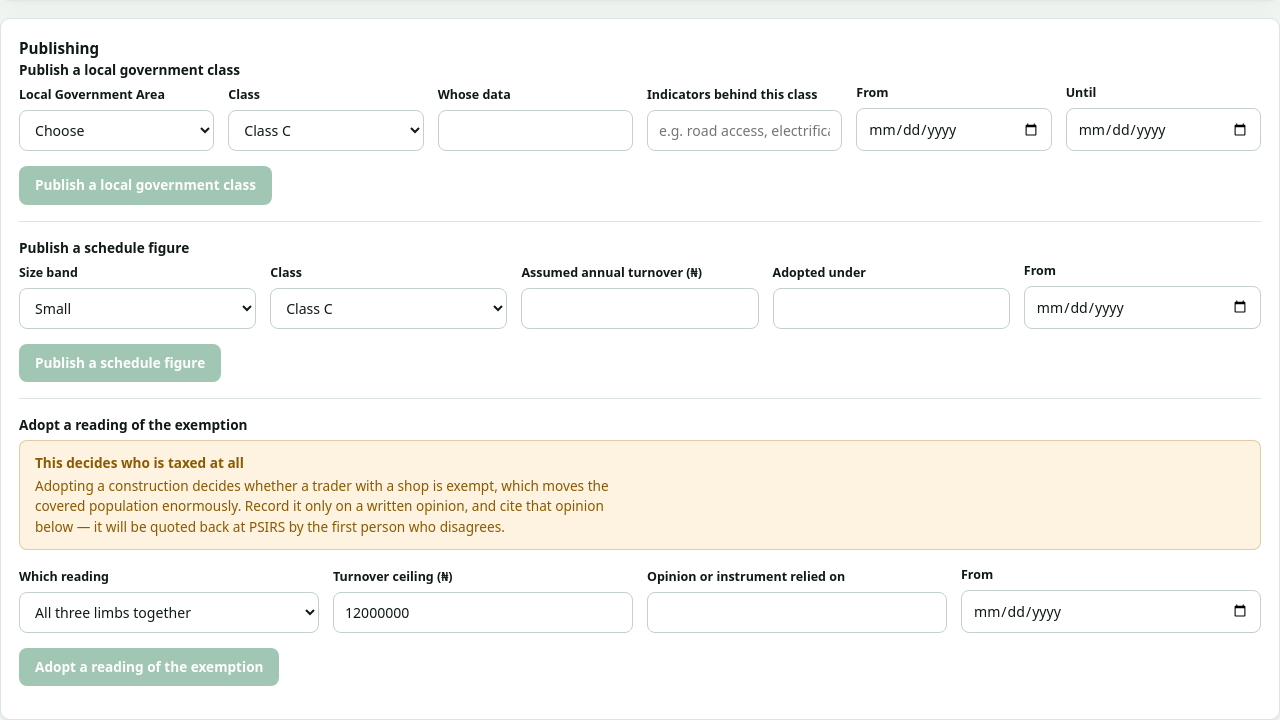
publishing › will not adopt a construction without citing an opinion
(page scrolled)
Expected: the button "Adopt a reading of the exemption" is disabled, [19,648,280,686]
Type "Attorney-General opinion of 12 January 2026" into the field labelled "Opinion or instrument relied on" at [797, 612], box [647,592,947,633]
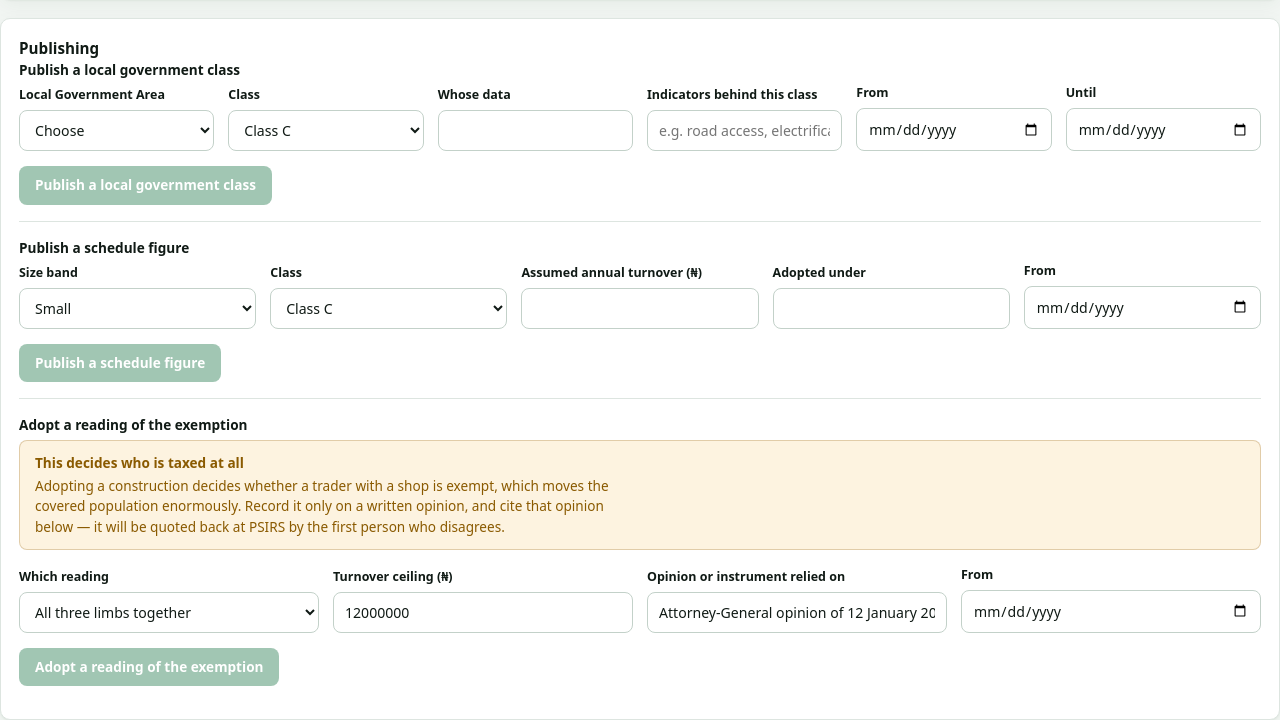
Type "2026-01-01" into the date field labelled "From" below "Opinion or instrument relied on" at [1111, 611], box [961,590,1261,633]
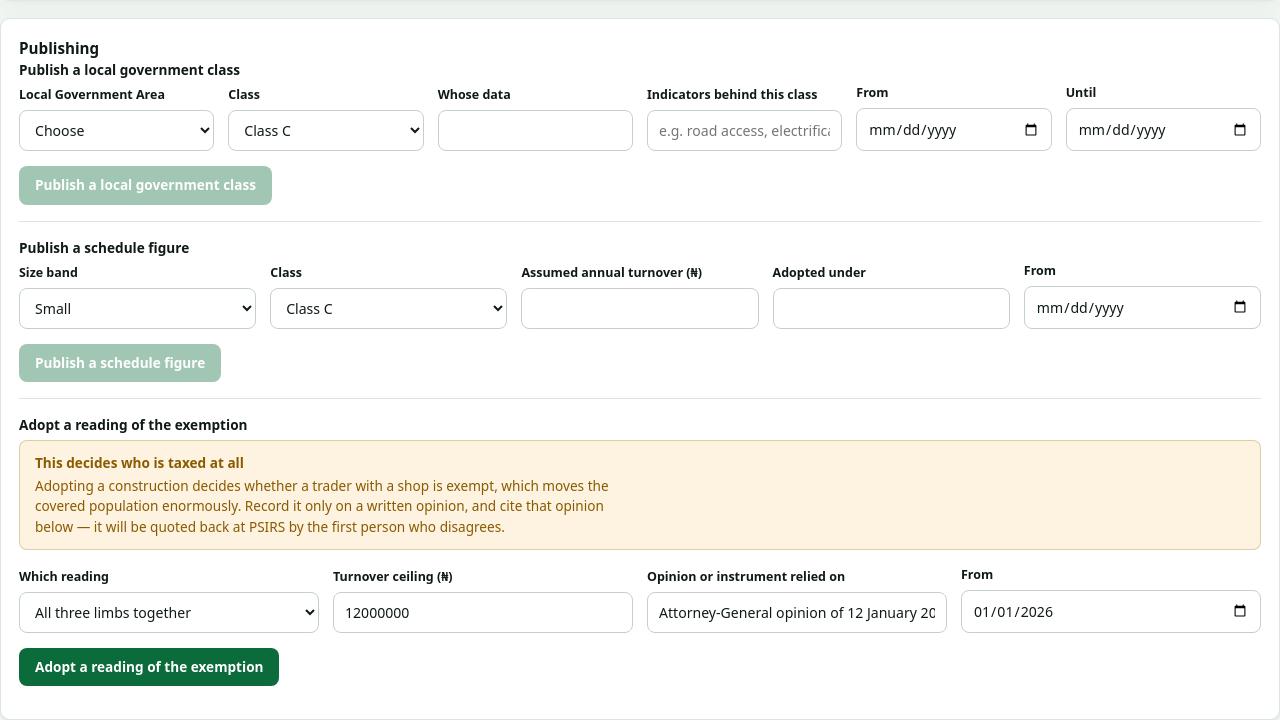
Result: the button "Adopt a reading of the exemption" is enabled at [19,648,280,686]
